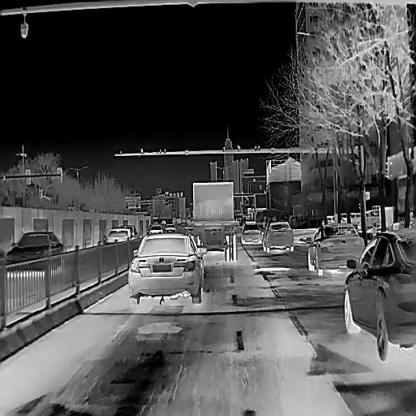car: (343, 231, 416, 361), (128, 232, 203, 304), (187, 181, 237, 260), (307, 222, 364, 275), (3, 230, 64, 265), (264, 220, 293, 253), (360, 207, 397, 227), (322, 212, 361, 228), (241, 221, 263, 244), (103, 229, 131, 245), (148, 224, 163, 233), (165, 223, 176, 233)
